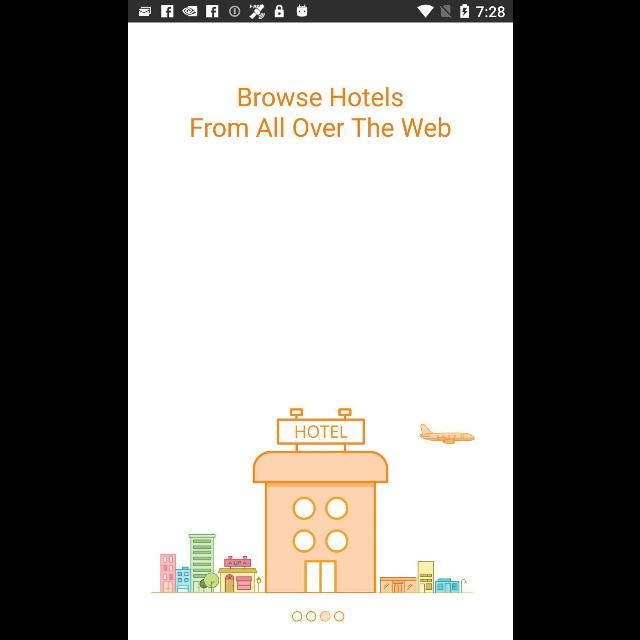image: (150, 408, 474, 594)
pageindicator: (292, 610, 344, 622)
text: (190, 86, 450, 138)
uppertaskbar: (128, 1, 512, 23)
